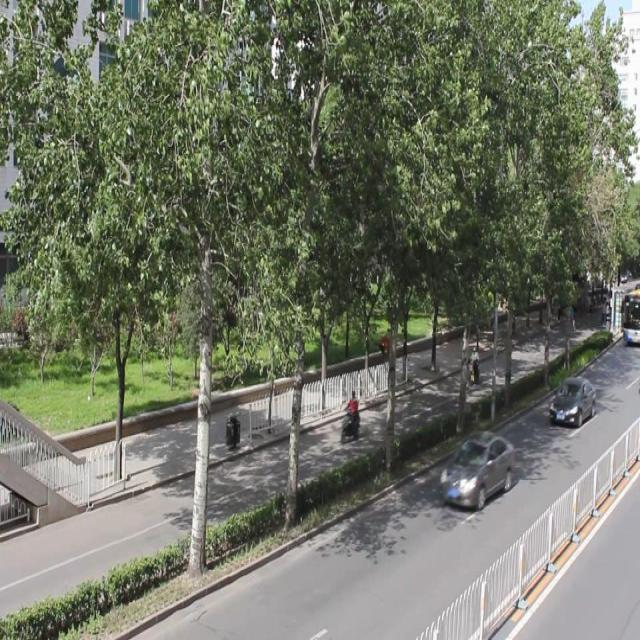car: (438, 428, 513, 507), (548, 376, 595, 426)
